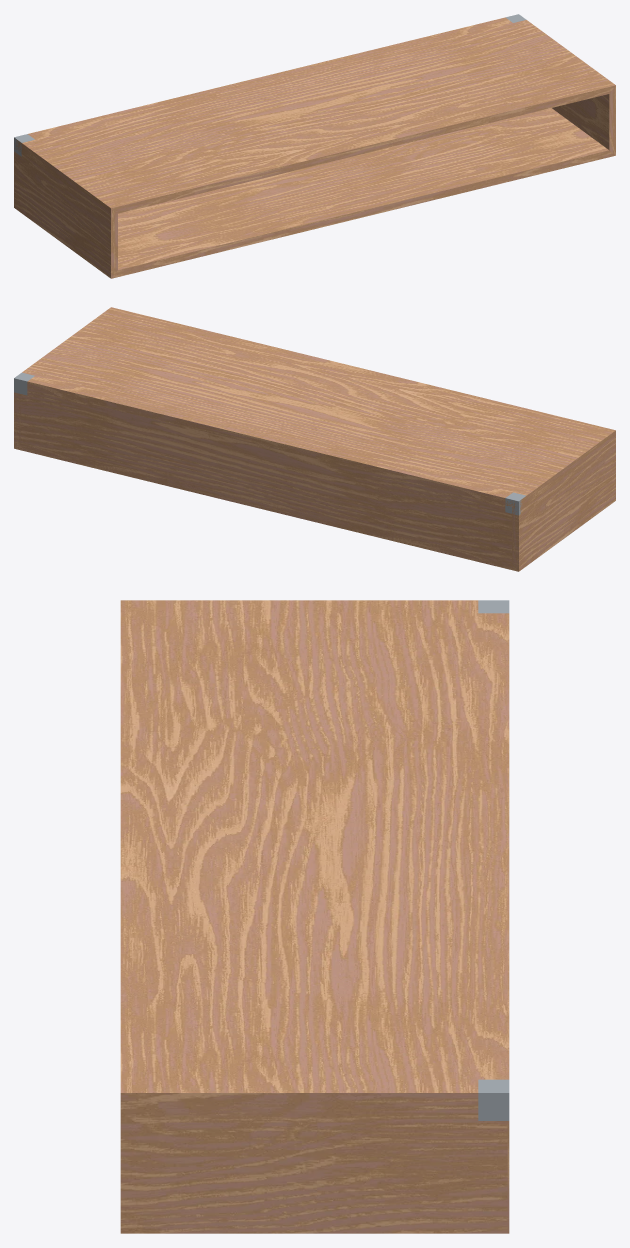
The model's file is Hylly_006-transformed.glb.
The picture shows the model from 3 angles, top to bottom: view 1: azimuth 30°, elevation 25°; view 2: azimuth 150°, elevation 25°; view 3: azimuth 270°, elevation 25°; orthographic projection. The views are drawn at different scales.
Visible parts, largest first — view 1: Pohja; view 2: Pohja; view 3: Pohja, attach_right.
Boxes of the visible parts, bbox=[...] form: Pohja: bbox=[14, 17, 615, 278]; Pohja: bbox=[14, 307, 615, 571]; Pohja: bbox=[120, 600, 509, 1233]; attach_right: bbox=[478, 1079, 509, 1120].
Bounding box in the file's own units: 0.75 × 0.1 × 0.25.
2 materials, 1 textured.
